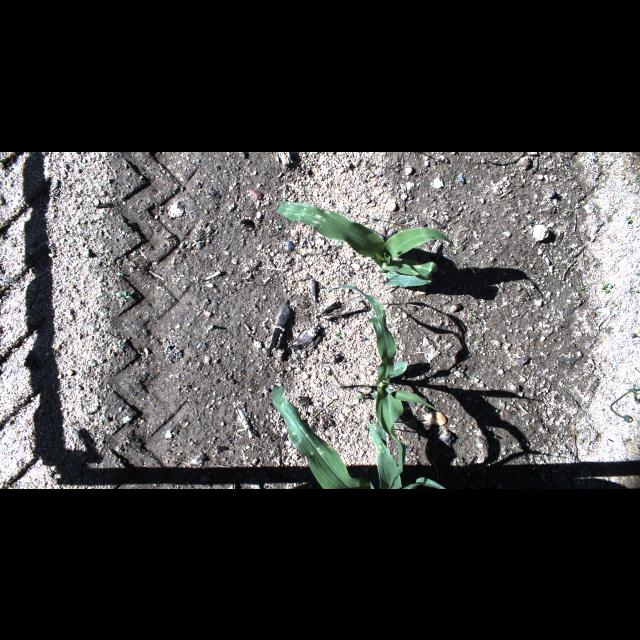crop: (320, 284, 438, 488), (272, 382, 446, 488), (275, 199, 475, 285)
weed: (601, 280, 613, 292), (334, 332, 346, 340), (456, 457, 464, 467), (468, 312, 476, 320), (626, 214, 632, 222), (362, 390, 370, 394), (630, 288, 634, 294)
